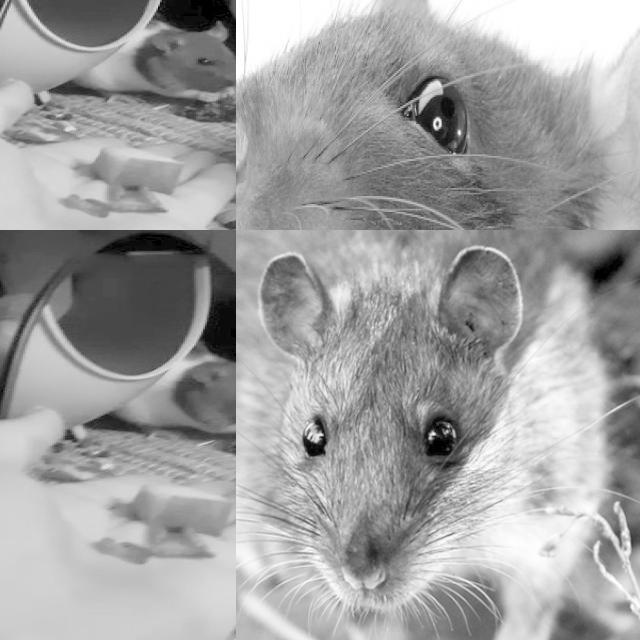rat: (250, 230, 610, 640), (236, 0, 640, 230), (71, 17, 236, 102), (112, 359, 236, 441)
